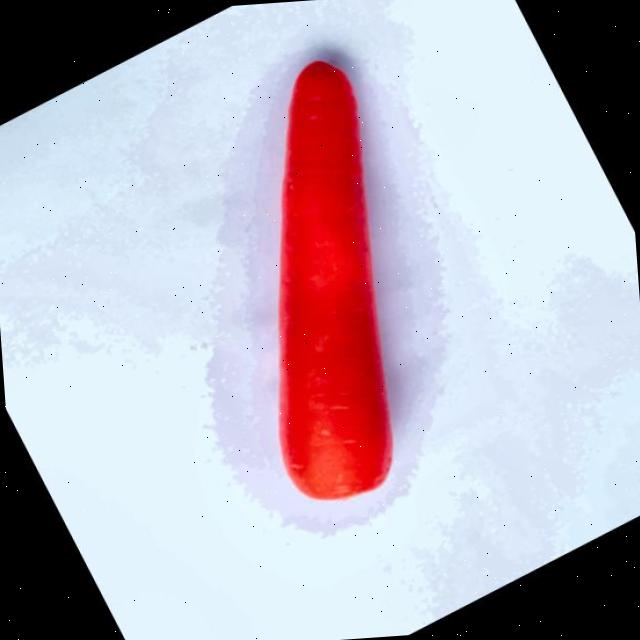carrot: (279, 61, 392, 498)
